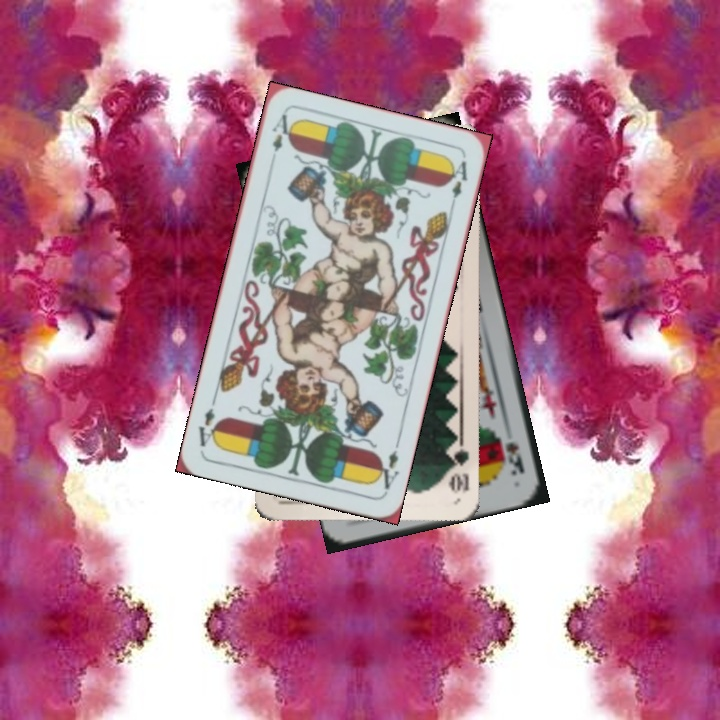EA: (371, 446, 402, 495), (267, 110, 295, 155)
G10: (446, 437, 472, 496)
SK: (501, 438, 527, 478)
